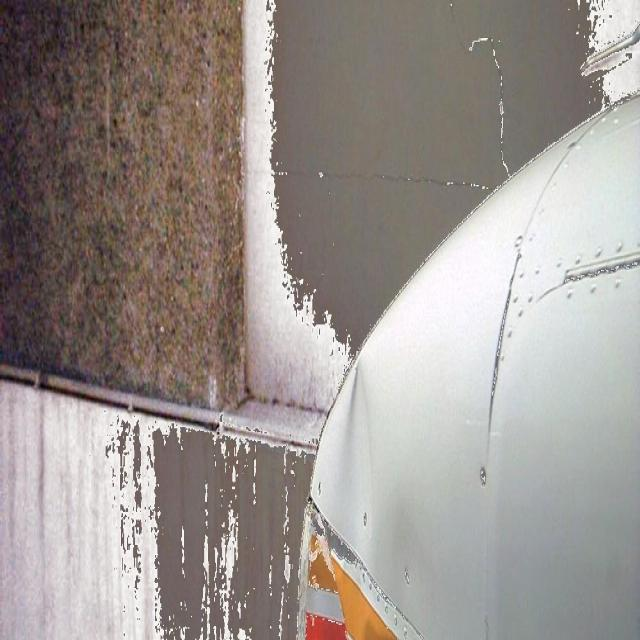crack: (488, 242, 522, 443), (475, 38, 509, 173), (566, 257, 640, 282), (376, 175, 486, 188)
dent: (245, 0, 640, 358), (118, 422, 314, 640), (306, 344, 423, 640)
